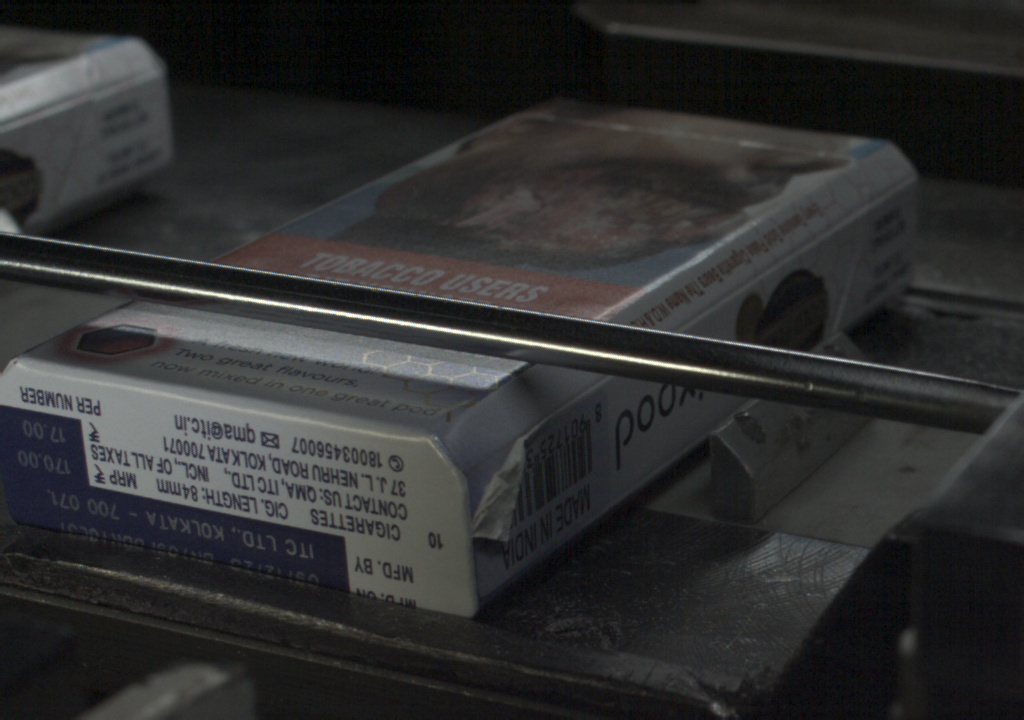g_bottom: (1, 358, 461, 617)
g_label: (4, 480, 350, 588)
g_lmiter: (680, 263, 778, 329), (780, 204, 866, 261), (538, 376, 613, 425)
g_miter: (871, 171, 918, 205)
ng_lmiter: (470, 428, 529, 543)
price: (1, 413, 86, 480)
